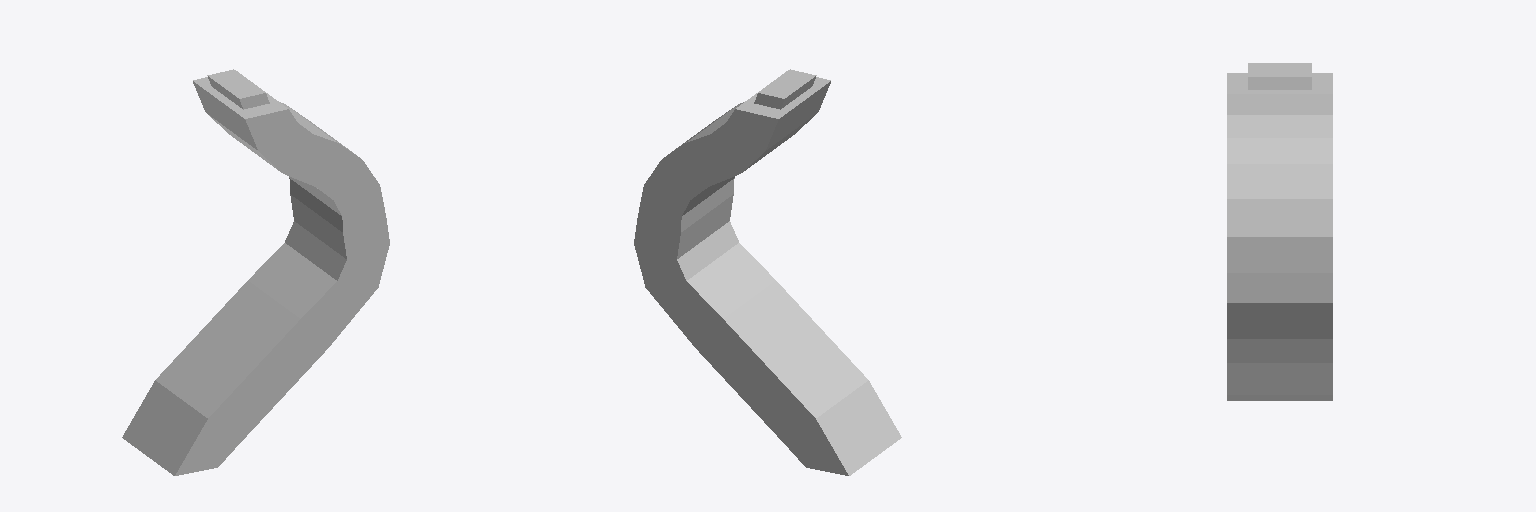
File: neck.obj
The picture shows the model from 3 angles: view 1: azimuth 30°, elevation 25°; view 2: azimuth 150°, elevation 25°; view 3: azimuth 270°, elevation 25°; orthographic projection.
Visible parts, largest first — view 1: Cube.001_Cube.008; view 2: Cube.001_Cube.008; view 3: Cube.001_Cube.008.
Boxes of the visible parts, x1=… form: Cube.001_Cube.008: x1=122, y1=69, x2=389, y2=475; Cube.001_Cube.008: x1=634, y1=69, x2=901, y2=475; Cube.001_Cube.008: x1=1227, y1=63, x2=1332, y2=400.
Bounding box in the file's own units: 0.7603 × 1.19 × 0.3231.